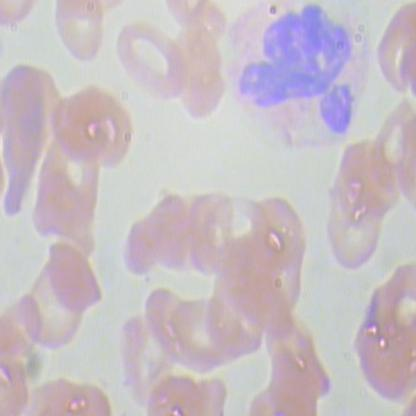RBC: (141, 284, 221, 386), (111, 312, 184, 415), (354, 287, 415, 406), (31, 145, 101, 247), (322, 164, 386, 274), (167, 23, 230, 124), (244, 196, 309, 292), (113, 21, 184, 107), (71, 86, 134, 178), (24, 266, 86, 356), (255, 352, 330, 416), (48, 93, 108, 168), (43, 244, 103, 318), (50, 0, 112, 70), (1, 292, 45, 382), (149, 190, 195, 276), (119, 206, 162, 282), (142, 376, 216, 415)
WBC: (224, 1, 376, 149)
